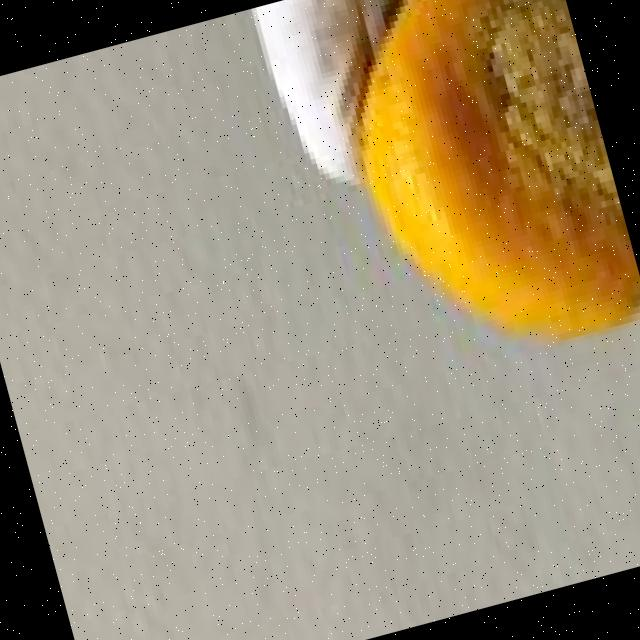Bad_Orange-0-1 day: (350, 0, 640, 343)
